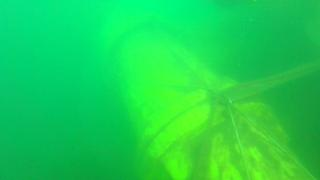pipe: (104, 12, 314, 180)
